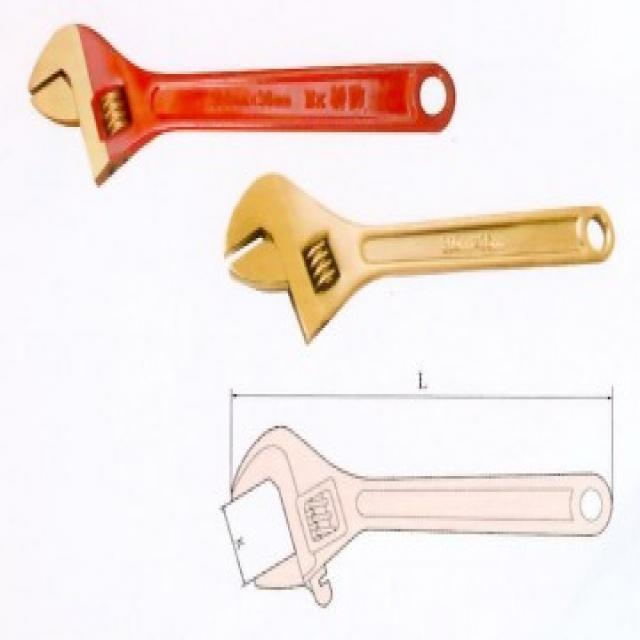wrench: (21, 14, 458, 191), (218, 168, 619, 352)
